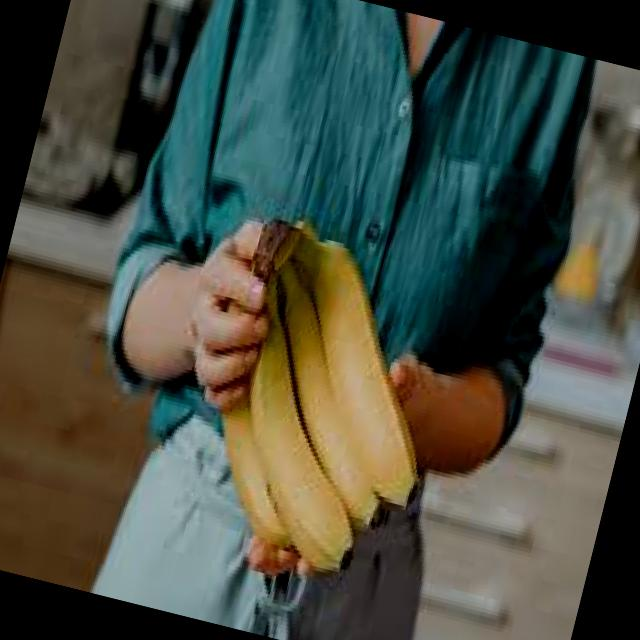banana: (229, 205, 477, 507), (196, 273, 413, 582)
